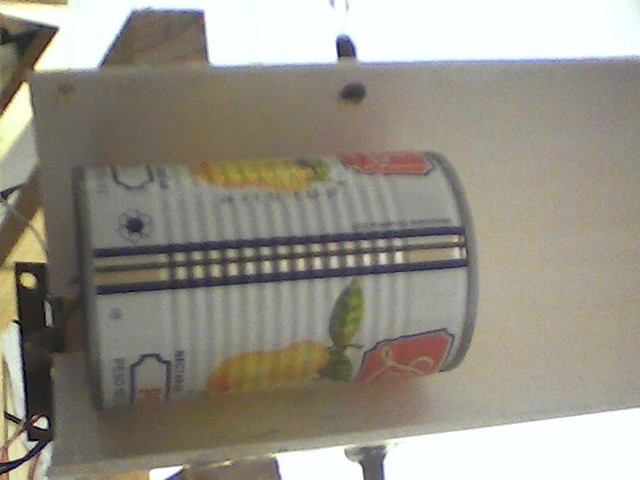lata: (66, 143, 485, 417)
